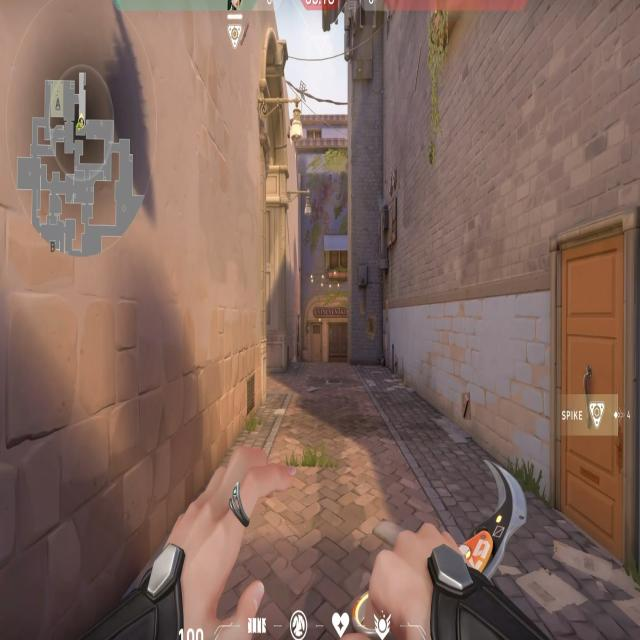Wine: (298, 292, 360, 381)
